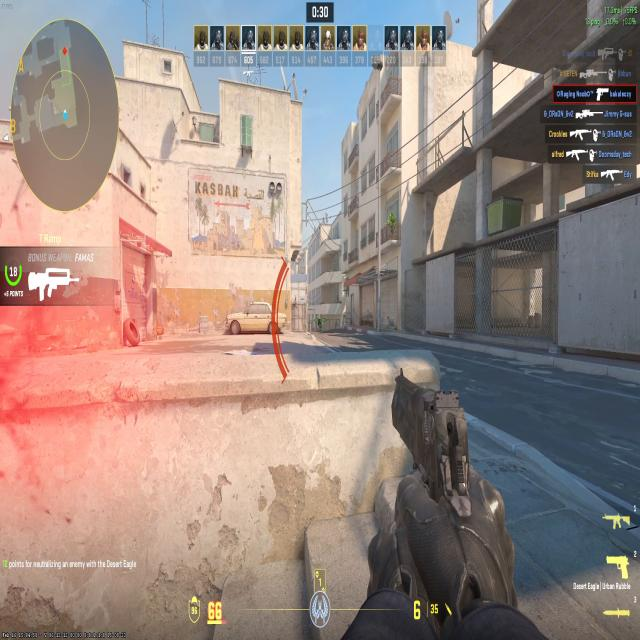player: (316, 317, 324, 335)
